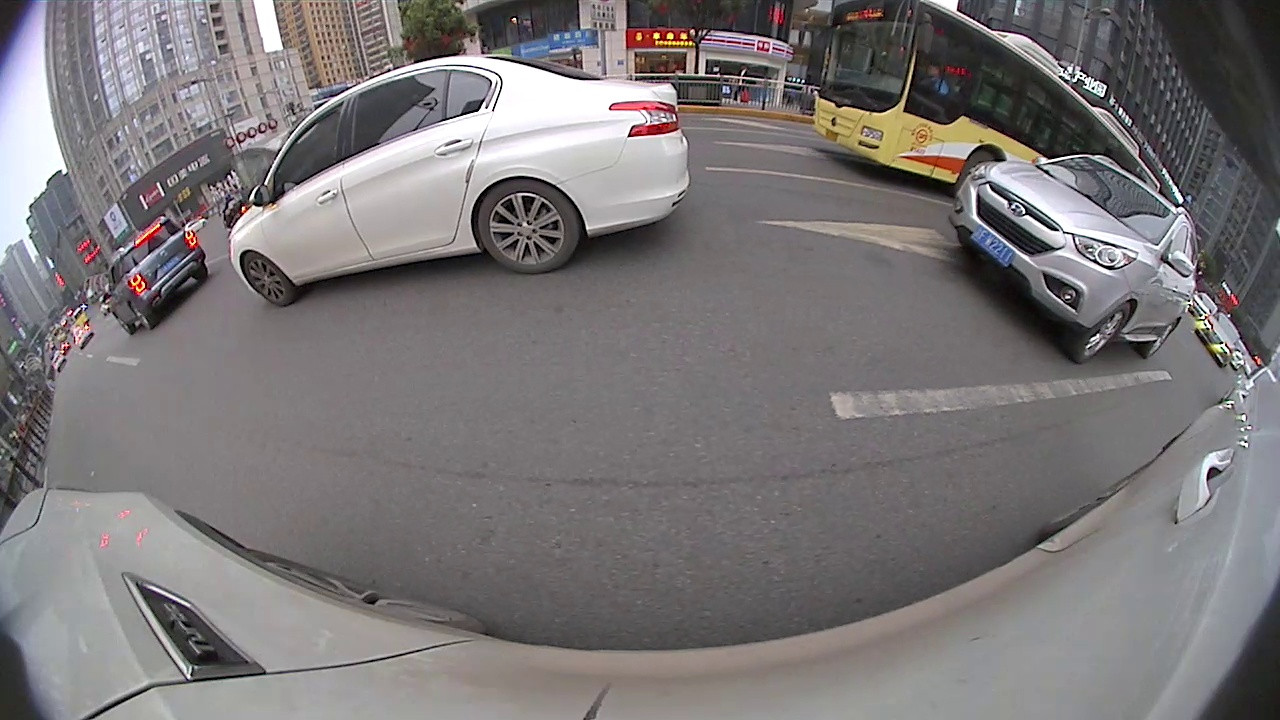bus: (807, 1, 1165, 198)
car: (226, 53, 691, 307), (946, 153, 1202, 366), (99, 213, 212, 333)
front: (1072, 300, 1134, 364), (240, 251, 295, 309)
rear: (478, 178, 581, 276), (1139, 317, 1180, 360)
